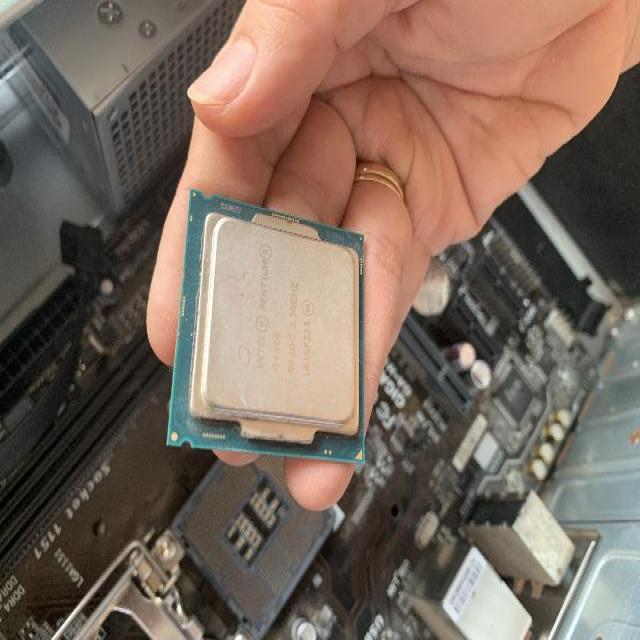CPU: (168, 183, 365, 470)
